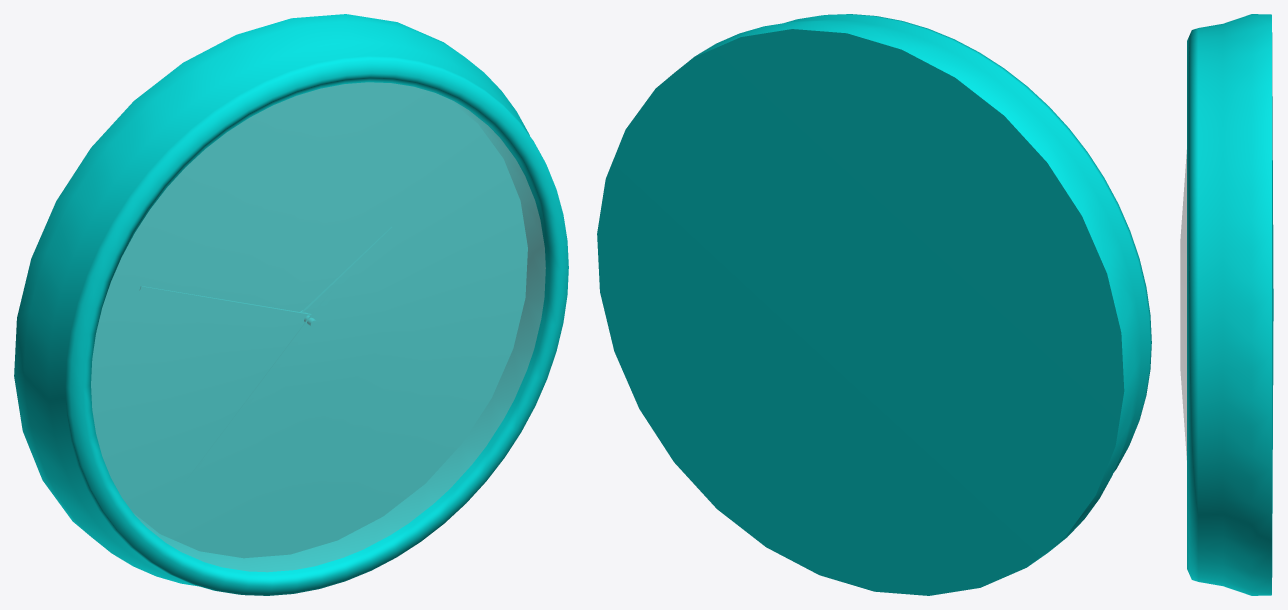
The model's file is classroomClock.fbx.
3 renders of one model, left to right at view 1: azimuth 30°, elevation 25°; view 2: azimuth 150°, elevation 25°; view 3: azimuth 270°, elevation 25°, orthographic. The views are drawn at different scales.
Visible parts, largest first — view 1: classroomClock; view 2: classroomClock; view 3: classroomClock.
Boxes of the visible parts, x1,y1,x2,y2 form: classroomClock: (14,14,568,595); classroomClock: (597,14,1151,595); classroomClock: (1180,14,1273,595).
Size of the model in its own units: 26.18 by 26.18 by 4.19.
